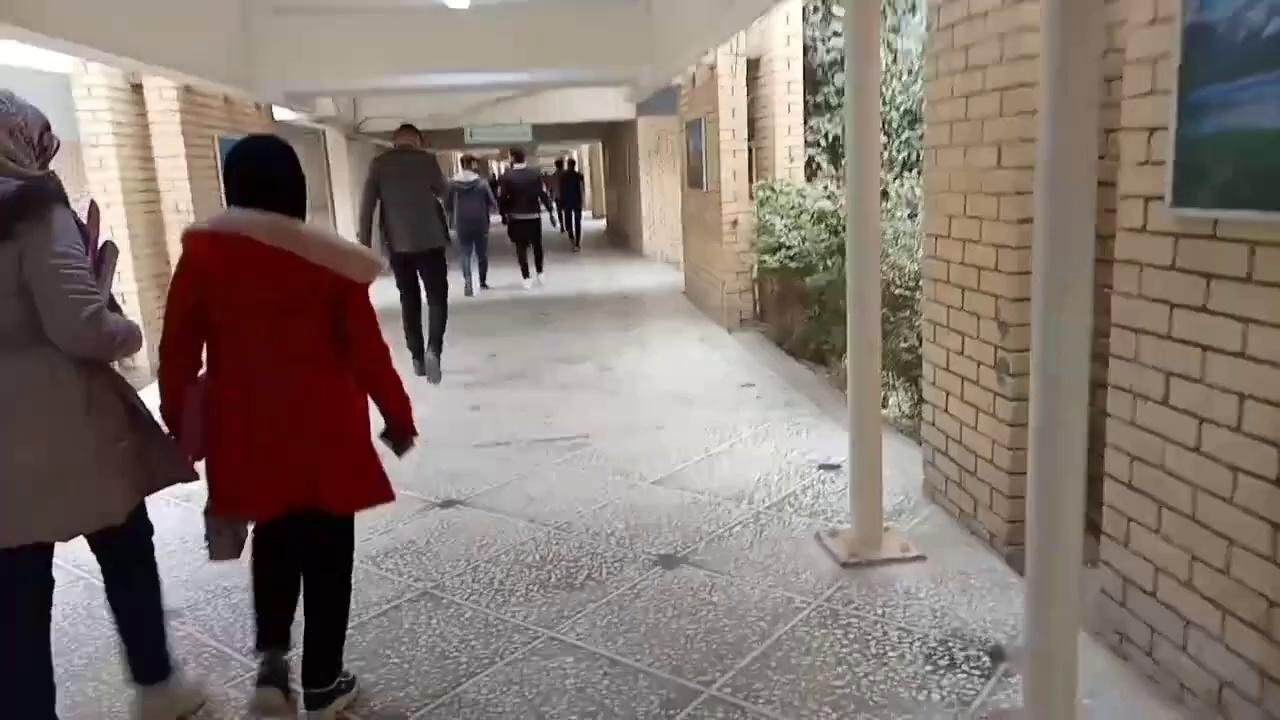person: (156, 132, 418, 718), (0, 87, 207, 719), (357, 123, 452, 382), (498, 147, 557, 289), (444, 153, 498, 296), (558, 157, 584, 252), (547, 158, 566, 232)
tree: (747, 174, 841, 353)
